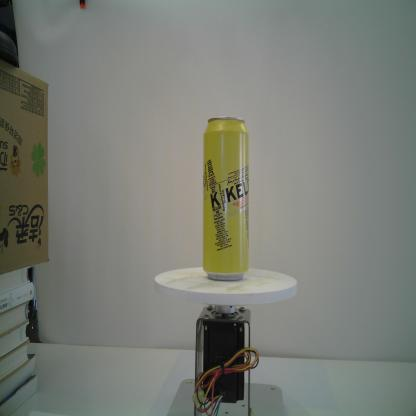Alcohol: (201, 112, 249, 282)
